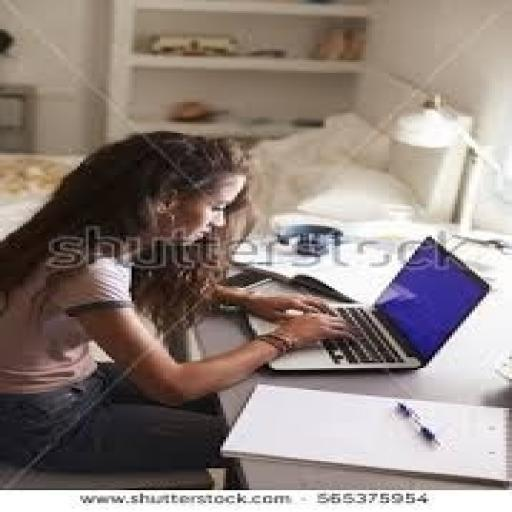using_laptop: (240, 233, 492, 372)
